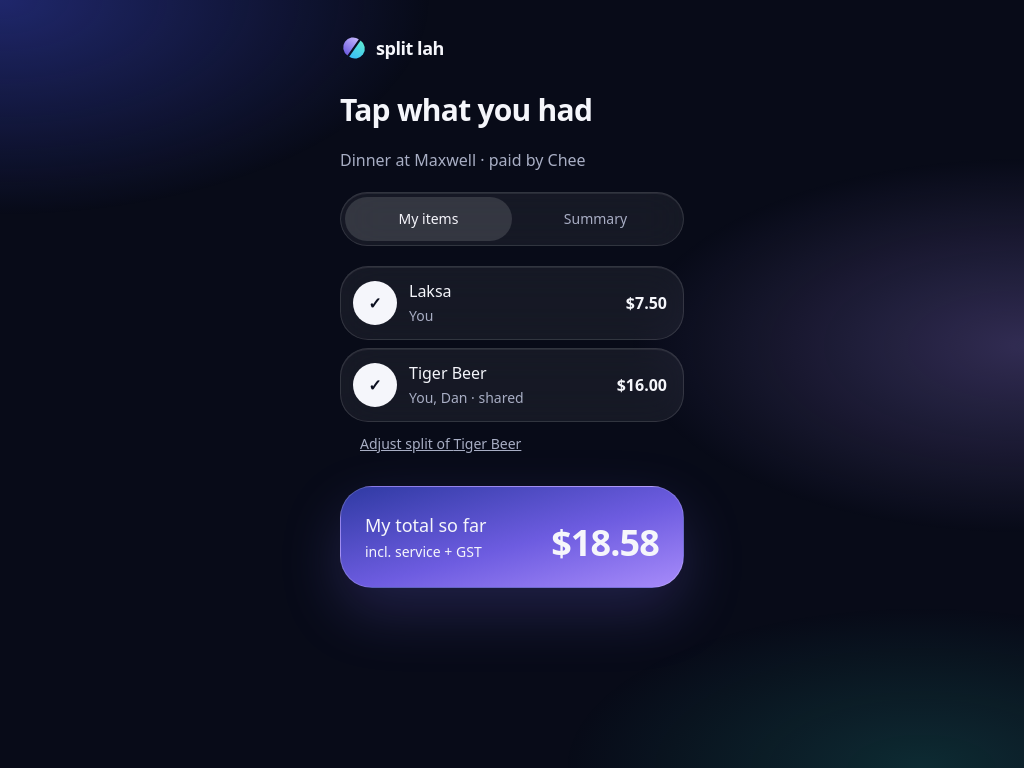
Test: Adjust split › opens saved shares and exact amounts too
Click the button "Adjust split of Tiger Beer": coordinates (441, 444) [340,422,541,466]
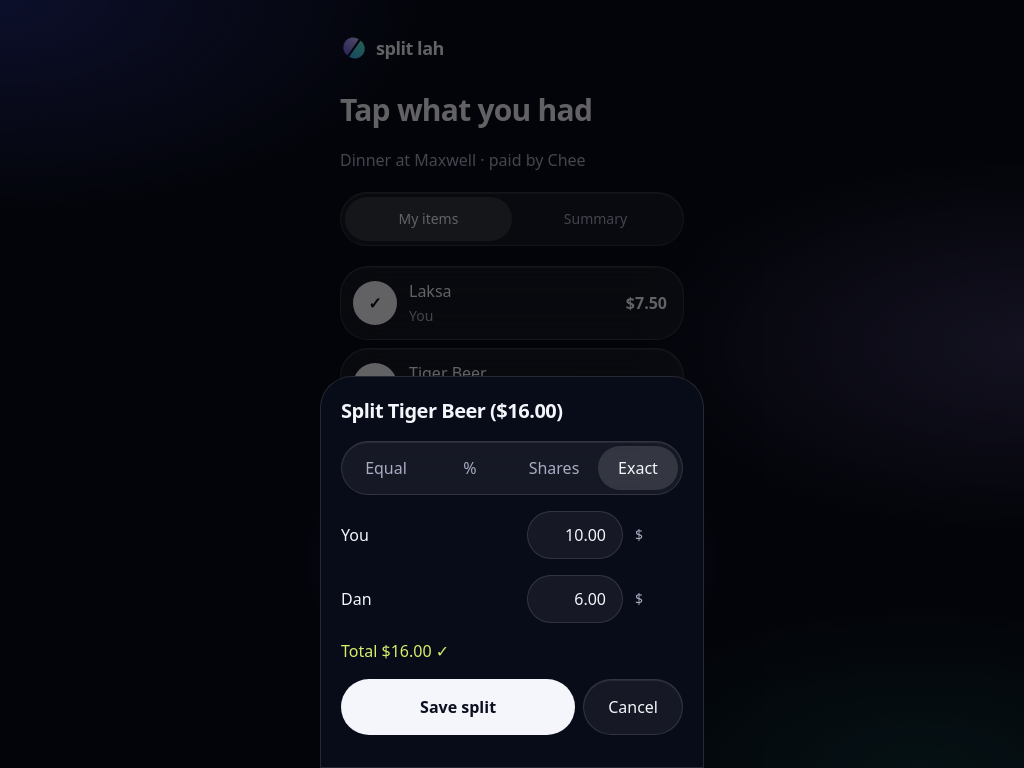
Check: the field labelled "You $" holds "10.00", box [527,511,623,559]
Check: the message reads "Total $16.00 ✓", box [341,640,449,662]
